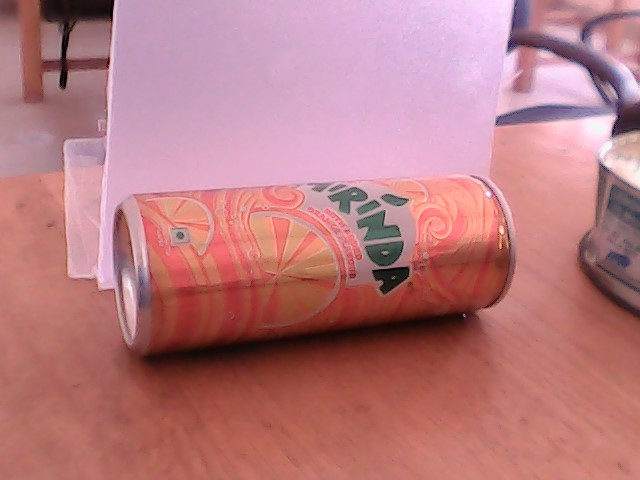Metal: (111, 168, 528, 333)
